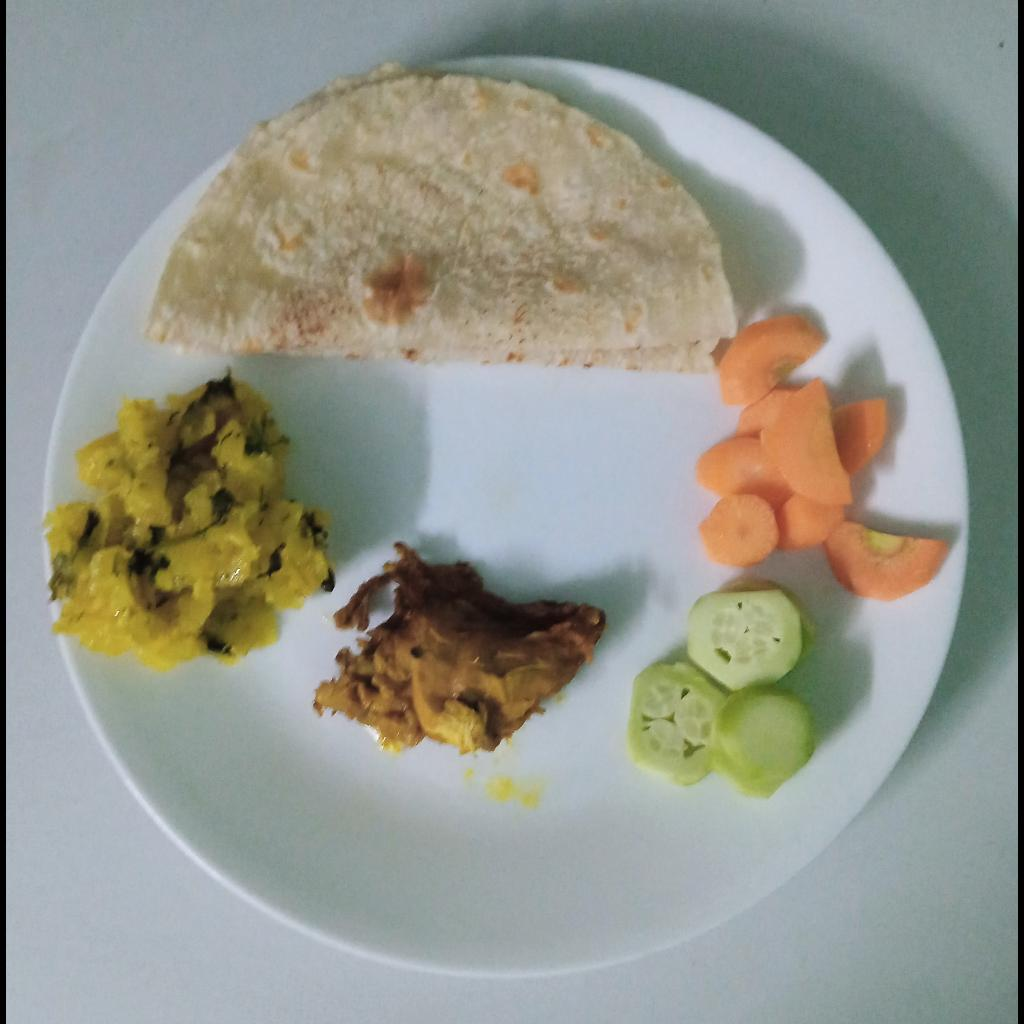cabbage: (41, 372, 335, 680)
carrot: (697, 316, 949, 603)
chicken: (312, 544, 606, 755)
cucumber: (630, 573, 821, 800)
ruti: (145, 65, 744, 372)
